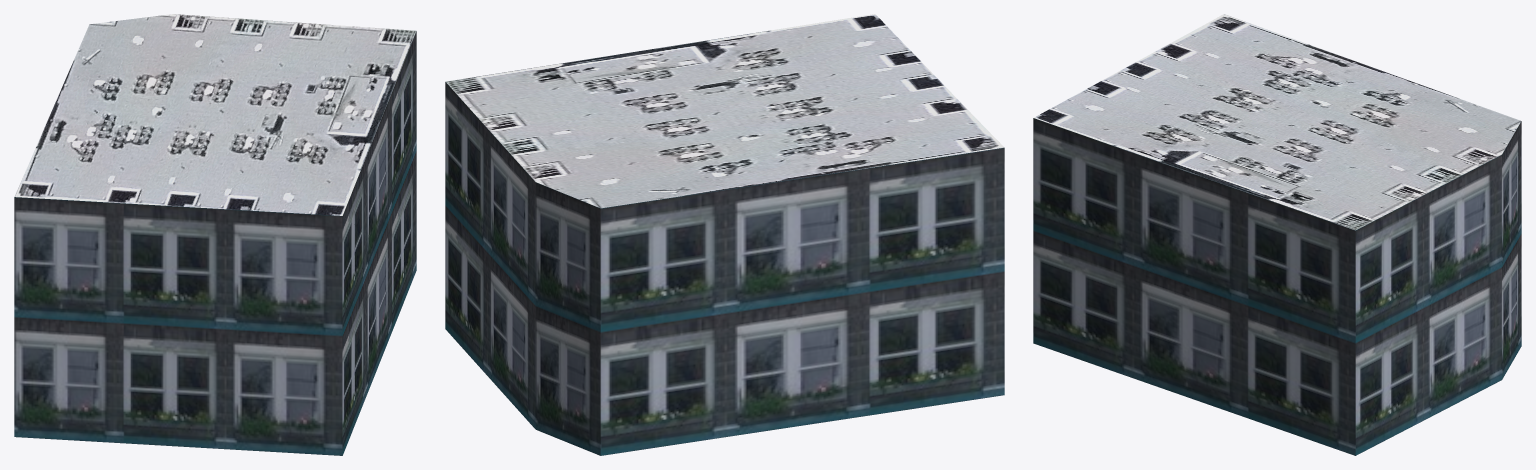
File: ResTex__584.fbx
The picture shows the model from 3 angles, left to right: view 1: azimuth 30°, elevation 25°; view 2: azimuth 150°, elevation 25°; view 3: azimuth 270°, elevation 25°; orthographic projection. The views are drawn at different scales.
Parts seen in each view (by area): view 1: CityEngineMaterial_11_m, CityEngineMaterial_4_m; view 2: CityEngineMaterial_11_m, CityEngineMaterial_4_m; view 3: CityEngineMaterial_11_m, CityEngineMaterial_4_m.
Part boxes in pixels (box(x1,y1,x2,y2)): CityEngineMaterial_11_m: box(14, 31, 416, 455); CityEngineMaterial_4_m: box(14, 14, 416, 215); CityEngineMaterial_11_m: box(445, 82, 1004, 455); CityEngineMaterial_4_m: box(446, 14, 1003, 208); CityEngineMaterial_11_m: box(1033, 118, 1521, 455); CityEngineMaterial_4_m: box(1034, 14, 1521, 230).
Bounding box in the file's own units: 12.35 × 6 × 11.77.
Materials: 2 (2 with a texture image).
